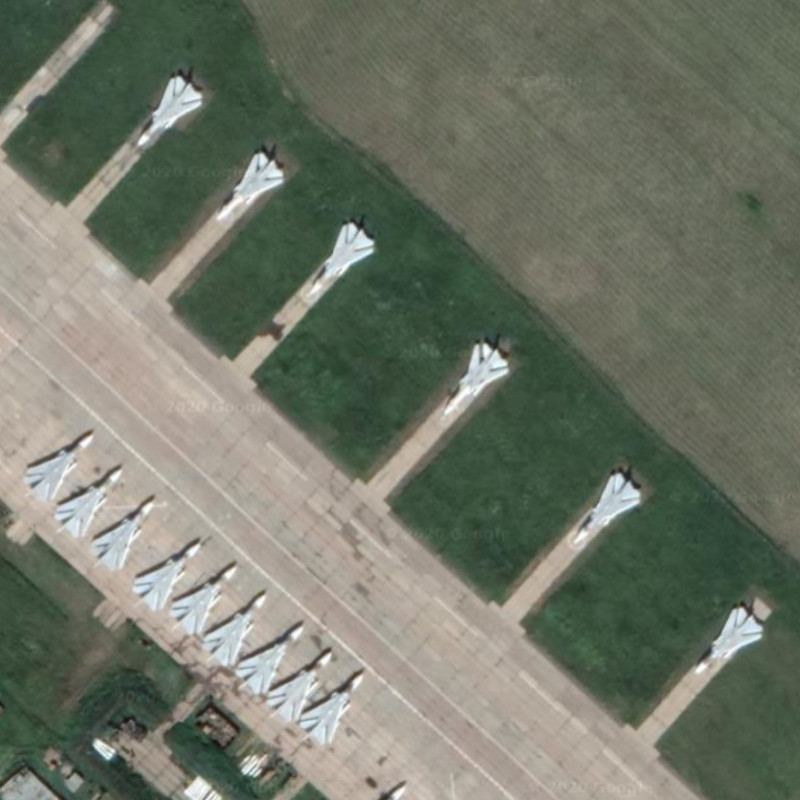A20: (687, 597, 778, 682), (213, 136, 295, 226), (569, 464, 653, 550), (302, 211, 383, 293), (17, 424, 98, 505), (442, 333, 522, 415), (262, 645, 337, 726), (297, 668, 373, 747), (133, 67, 207, 148), (87, 488, 157, 573), (139, 522, 200, 610), (173, 558, 239, 639), (205, 586, 266, 671), (57, 461, 122, 540), (244, 619, 303, 697)
